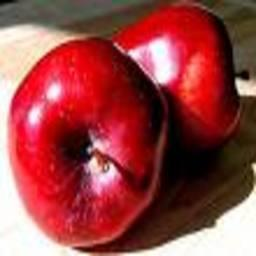apple: (8, 36, 169, 250), (113, 5, 241, 149)
